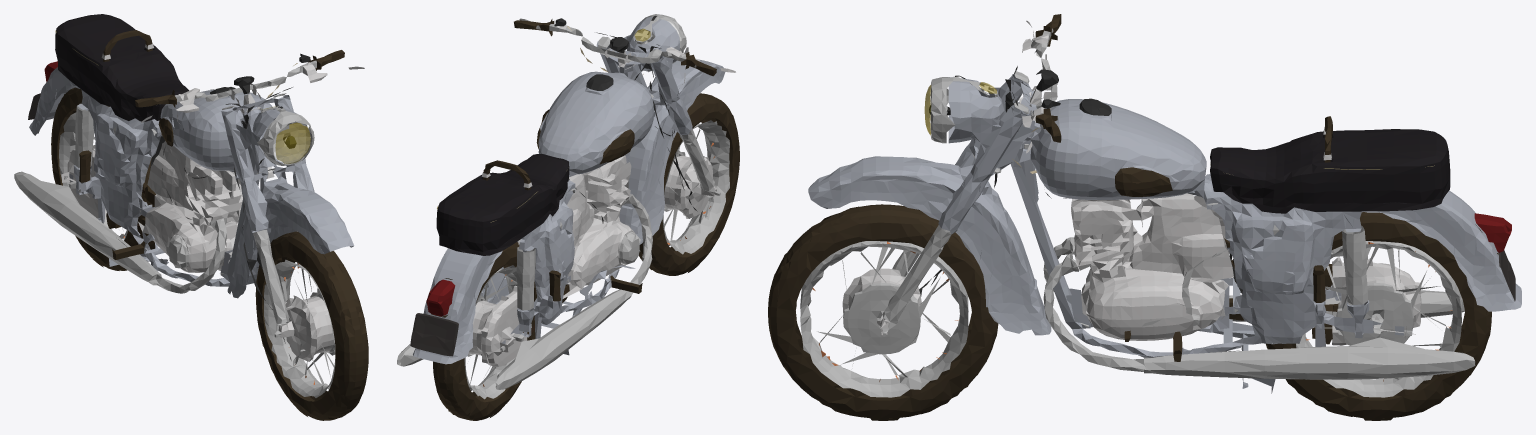
Rendered from izh.gltf.
3 renders of one model, left to right at view 1: azimuth 30°, elevation 25°; view 2: azimuth 150°, elevation 25°; view 3: azimuth 270°, elevation 25°, orthographic. The views are drawn at different scales.
Parts seen in each view (by area): view 1: Body; view 2: Body; view 3: Body.
Boxes of the visible parts, x1=… form: Body: x1=14, y1=14, x2=368, y2=420; Body: x1=397, y1=14, x2=739, y2=420; Body: x1=768, y1=14, x2=1521, y2=420.
Bounding box in the file's own units: 0.8687 × 1.08 × 2.1.
